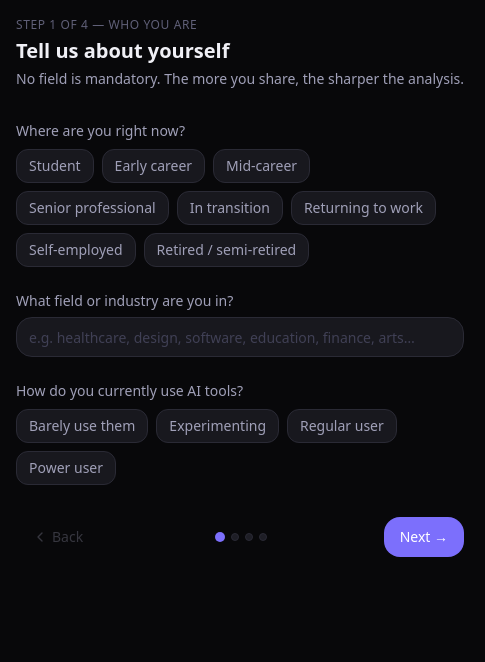
Test: QuestionnaireScreen › next button advances to step 2
The image size is (485, 662).
Click the button "Next →".
click(424, 537)  # box [384,517,464,557]
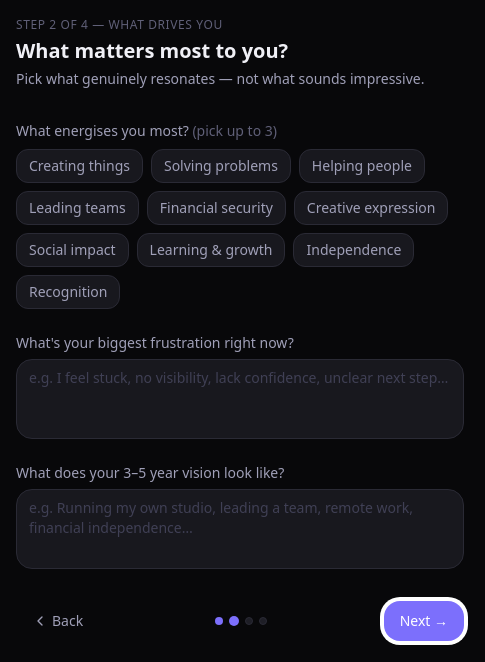
Result: the text "Step 2 of 4 — what drives you" is shown at [16,16,223,33]
Result: the heading "What matters most to you?" is shown at [16,37,288,64]
